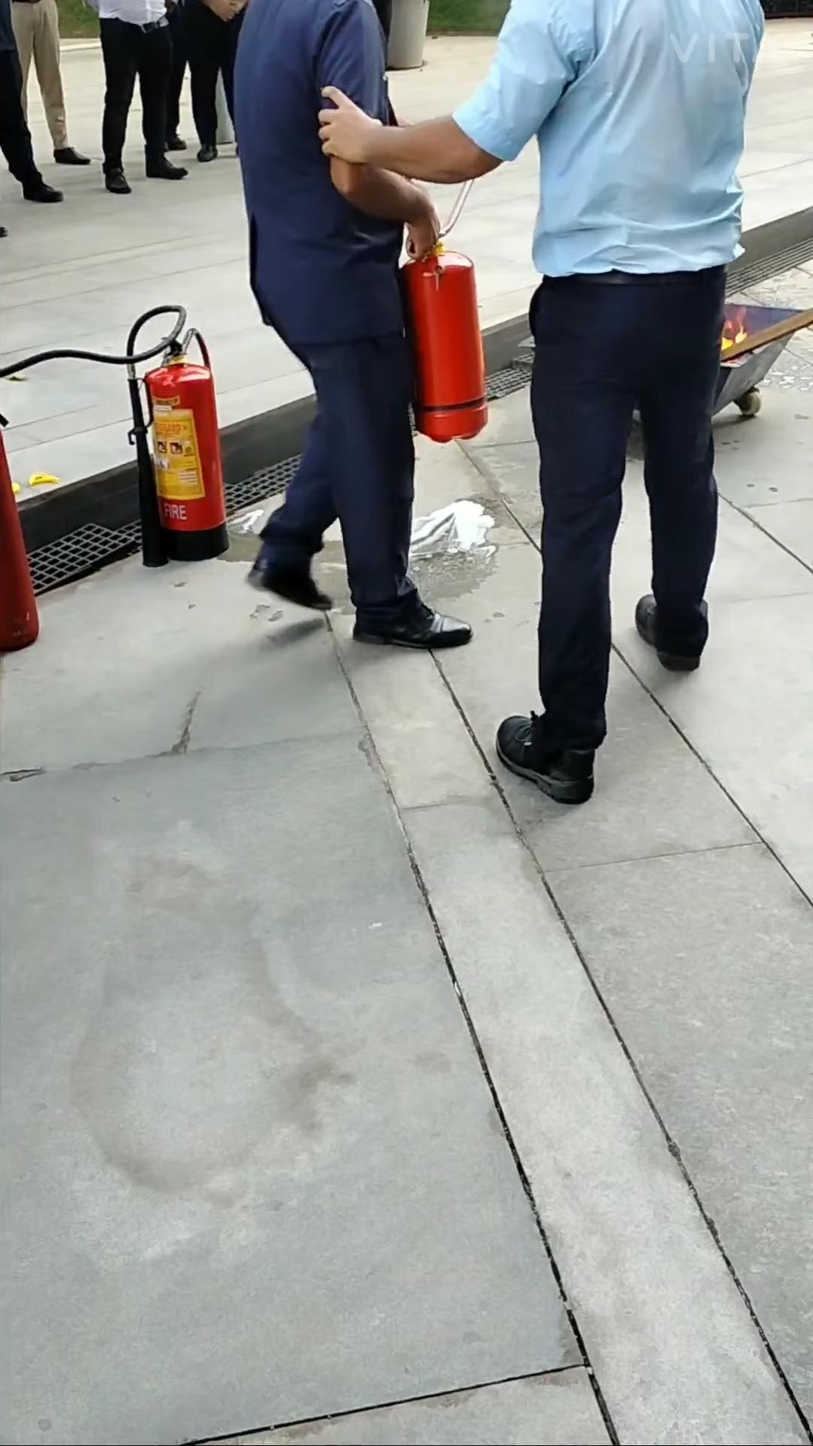FireExtinguisher: (114, 321, 247, 577), (392, 212, 494, 455)
